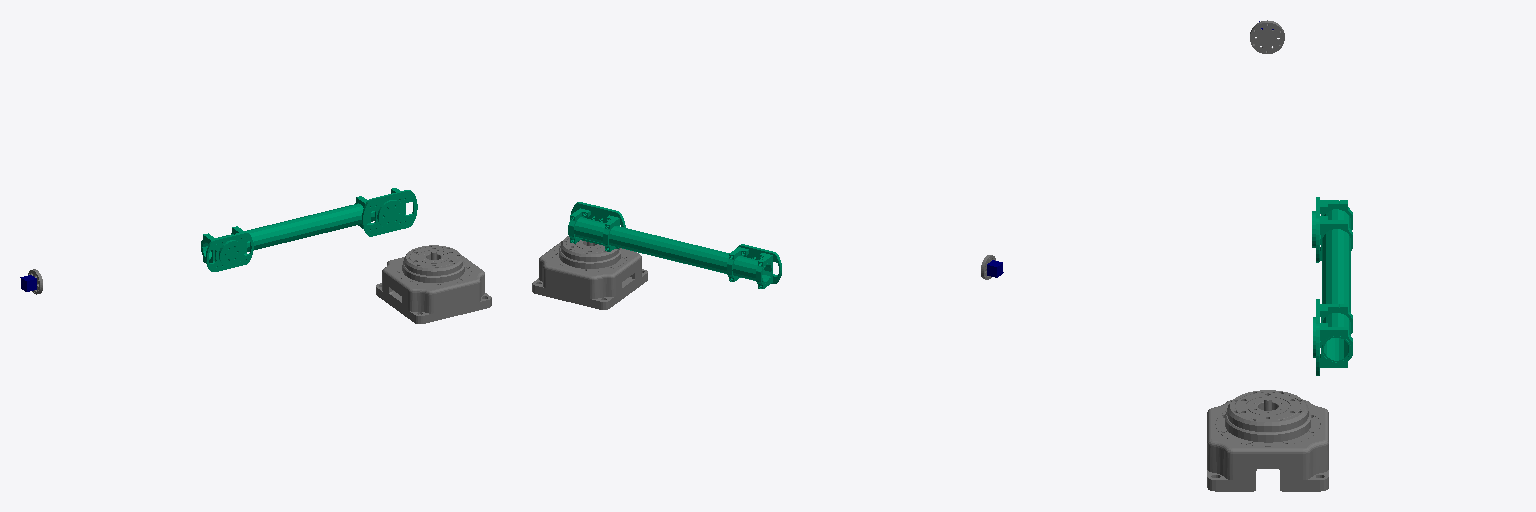
URDF robot description (Lagrange_01_sim):
<?xml version="1.0"?>
<robot name="Lagrange_01_sim">
  <!-- Material definitions copied from common_properities.xacro -->
  <material name="grey">
    <color rgba="0.5 0.5 0.5 1"/>
  </material>
  <material name="blue">
    <color rgba="0 0 0.5 1"/>
  </material>
  <material name="dark_green">
    <color rgba="0 0.4 0 1"/>
  </material>
  <material name="green">
    <color rgba="0 0.6 0 1"/>
  </material>

  <!-- Joints (fixed base, 6-DOF arm, fixed tool/gripper) -->
  <joint name="j1" type="revolute">
    <origin xyz="0 0 0.0888" rpy="0 0 3.1416"/>
    <parent link="base_link"/>
    <child link="shoulder"/>
    <axis xyz="0 0 -1"/>
    <limit lower="-1.57" upper="1.57" effort="100" velocity="1.0"/>
  </joint>
  <joint name="j2" type="revolute">
    <origin xyz="0.05 -0.0535 0.058" rpy="-1.5708 -3.1416 3.1416"/>
    <parent link="shoulder"/>
    <child link="arm1"/>
    <axis xyz="0 0 1"/>
    <limit lower="-0.2" upper="3.1415" effort="100" velocity="1.0"/>
  </joint>
  <joint name="j3" type="revolute">
    <origin xyz="0.307 0 -0.001" rpy="0 0 0"/>
    <parent link="arm1"/>
    <child link="elbow"/>
    <axis xyz="0 0 -1"/>
    <limit lower="-1.57" upper="3.0" effort="100" velocity="1.0"/>
  </joint>
  <joint name="j4" type="revolute">
    <origin xyz="0 0.065 -0.05255" rpy="-1.5708 -1.5708 -1.5708"/>
    <parent link="elbow"/>
    <child link="arm2"/>
    <axis xyz="0 0 1"/>
    <limit lower="-1.57" upper="1.57" effort="100" velocity="1.0"/>
  </joint>
  <joint name="j5" type="revolute">
    <origin xyz="0.0259 0 0.3055" rpy="1.5708 -1.5708 1.5708"/>
    <parent link="arm2"/>
    <child link="wrist"/>
    <axis xyz="0 0 -1"/>
    <limit lower="-1.57" upper="1.57" effort="100" velocity="1.0"/>
  </joint>
  <joint name="j6" type="revolute">
    <origin xyz="0.0986 0 -0.0267" rpy="1.5708 1.536 1.5708"/>
    <parent link="wrist"/>
    <child link="ee"/>
    <axis xyz="0 0 -1"/>
    <limit lower="-1.57" upper="1.57" effort="100" velocity="1.0"/>
  </joint>
  <joint name="hand_tool_joint" type="fixed">
    <parent link="ee"/>
    <child link="tool_link"/>
    <origin xyz="0 0 0.006" rpy="0 0 0"/>
  </joint>

  <!-- Links: geometry copied from Lagrange_01.xacro -->
  <link name="base_link">
    <inertial>
      <origin xyz="4.41011508878764E-05 -2.90756555668681E-05 0.0361387835104102" rpy="0 0 0"/>
      <mass value="0.809840255220577"/>
      <inertia ixx="0.00175354317772318" ixy="-3.3351357639085E-08" ixz="-1.15494031424985E-05" iyy="0.00162670948417624" iyz="-6.61769333761291E-08" izz="0.00306935595115229"/>
    </inertial>
    <visual>
      <origin xyz="0 0 0" rpy="0 0 0"/>
      <geometry>
        <mesh filename="../meshes/base_link.STL"/>
      </geometry>
      <material name="grey"/>
    </visual>
    <collision>
      <origin xyz="0 0 0" rpy="0 0 0"/>
      <geometry>
        <mesh filename="../meshes/base_link.STL"/>
      </geometry>
    </collision>
  </link>

  <link name="shoulder">
    <inertial>
      <origin xyz="0.0289886964053496 -0.0301809705454806 0.0367970577713876" rpy="0 0 0"/>
      <mass value="0.246398251542874"/>
      <inertia ixx="0.000180993620440308" ixy="-3.74858776429711E-06" ixz="-2.296855341785E-05" iyy="0.000329690310718771" iyz="-1.9870058151598E-07" izz="0.000223732490676728"/>
    </inertial>
    <visual>
      <origin xyz="0 0 0" rpy="0 0 0"/>
      <geometry>
        <mesh filename="../meshes/shoulder.STL"/>
      </geometry>
    </visual>
    <collision>
      <origin xyz="0 0 0" rpy="0 0 0"/>
      <geometry>
        <mesh filename="../meshes/shoulder.STL"/>
      </geometry>
    </collision>
  </link>

  <link name="arm1">
    <inertial>
      <origin xyz="0.146112992897114 6.40865138734625E-12 0.0194000233256321" rpy="0 0 0"/>
      <mass value="0.172300182895447"/>
      <inertia ixx="5.70121551241632E-05" ixy="-2.04753504900016E-08" ixz="2.48481066314224E-10" iyy="0.000923693984989881" iyz="-1.57920077297098E-14" izz="0.000948994175431864"/>
    </inertial>
    <visual>
      <origin xyz="0 0 0" rpy="0 0 0"/>
      <geometry>
        <mesh filename="../meshes/arm1.STL"/>
      </geometry>
    </visual>
    <collision>
      <origin xyz="0 0 0" rpy="0 0 0"/>
      <geometry>
        <mesh filename="../meshes/arm1.STL"/>
      </geometry>
    </collision>
  </link>

  <link name="elbow">
    <inertial>
      <origin xyz="0.0361747964819732 0.0408307812875339 -0.0272932242166123" rpy="0 0 0"/>
      <mass value="0.284448265743689"/>
      <inertia ixx="0.000222232973321951" ixy="-3.88755261394376E-05" ixz="2.48198628008984E-07" iyy="0.000153500497691171" iyz="-1.706672036193E-06" izz="0.000297168544530739"/>
    </inertial>
    <visual>
      <origin xyz="0 0 0" rpy="0 0 0"/>
      <geometry>
        <mesh filename="../meshes/elbow.STL"/>
      </geometry>
    </visual>
    <collision>
      <origin xyz="0 0 0" rpy="0 0 0"/>
      <geometry>
        <mesh filename="../meshes/elbow.STL"/>
      </geometry>
    </collision>
  </link>

  <link name="arm2">
    <inertial>
      <origin xyz="-0.00595945402412162 -5.32739356225442E-05 0.252334366906384" rpy="0 0 0"/>
      <mass value="0.107861938906089"/>
      <inertia ixx="0.000162118569669926" ixy="-6.57666219522903E-08" ixz="-7.29599288696642E-08" iyy="0.000146539139756443" iyz="-1.80802905320553E-07" izz="2.97799591500001E-05"/>
    </inertial>
    <visual>
      <origin xyz="0 0 0" rpy="0 0 0"/>
      <geometry>
        <mesh filename="../meshes/arm2.STL"/>
      </geometry>
    </visual>
    <collision>
      <origin xyz="0 0 0" rpy="0 0 0"/>
      <geometry>
        <mesh filename="../meshes/arm2.STL"/>
      </geometry>
    </collision>
  </link>

  <link name="wrist">
    <inertial>
      <origin xyz="0.044453379437331 7.44185616712301E-05 -0.0146834741303253" rpy="0 0 0"/>
      <mass value="0.085343913975739"/>
      <inertia ixx="3.95644042665526E-05" ixy="-9.0338673212097E-07" ixz="-1.34778006725232E-09" iyy="3.00242071647503E-05" iyz="6.54951185528677E-07" izz="3.76111917704214E-05"/>
    </inertial>
    <visual>
      <origin xyz="0 0 0" rpy="0 0 0"/>
      <geometry>
        <mesh filename="../meshes/wrist.STL"/>
      </geometry>
    </visual>
    <collision>
      <origin xyz="0 0 0" rpy="0 0 0"/>
      <geometry>
        <mesh filename="../meshes/wrist.STL"/>
      </geometry>
    </collision>
  </link>

  <link name="ee">
    <inertial>
      <origin xyz="5.55111512312578E-17 0 0.00293833383379588" rpy="0 0 0"/>
      <mass value="0.0073680722836419"/>
      <inertia ixx="8.38696312093355E-07" ixy="-4.0697286137609E-22" ixz="1.49719690872098E-22" iyy="8.38696312093354E-07" iyz="1.58818677610181E-22" izz="1.63251325062631E-06"/>
    </inertial>
    <visual>
      <origin xyz="0 0 0" rpy="0 0 0"/>
      <geometry>
        <mesh filename="../meshes/ee.STL"/>
      </geometry>
      <material name="grey"/>
    </visual>
    <collision>
      <origin xyz="0 0 0" rpy="0 0 0"/>
      <geometry>
        <mesh filename="../meshes/ee.STL"/>
      </geometry>
    </collision>
  </link>

  <link name="tool_link">
    <visual>
      <origin xyz="0 0 0.01" rpy="0 0 0"/>
      <geometry>
        <box size="0.02 0.02 0.02"/>
      </geometry>
      <material name="blue"/>
    </visual>
    <collision>
      <origin xyz="0 0 0.01" rpy="0 0 0"/>
      <geometry>
        <box size="0.04 0.04 0.02"/>
      </geometry>
      <material name="blue"/>
    </collision>
  </link>
</robot>

--- Facts derived from the render (not from the file) ---
The picture shows the robot from 3 angles, left to right: view 1: azimuth 30°, elevation 25°; view 2: azimuth 150°, elevation 25°; view 3: azimuth 270°, elevation 25°; orthographic projection.
Model Lagrange_01_sim with 8 links and 7 joints (6 revolute, 1 fixed), rooted at base_link, posed all joints at 0.
Links seen in each view (by area): view 1: base_link, arm1; view 2: arm1, base_link; view 3: base_link, arm1, ee.
Boxes of the visible links, bbox=[...] form: base_link: bbox=[376, 245, 491, 323]; arm1: bbox=[201, 188, 417, 271]; arm1: bbox=[568, 202, 781, 288]; base_link: bbox=[532, 236, 647, 309]; base_link: bbox=[1207, 390, 1328, 491]; arm1: bbox=[1312, 197, 1352, 375]; ee: bbox=[1250, 20, 1284, 53].
Bounding box of the posed robot: 0.8601 × 0.1747 × 0.2328 m (x, y, z).
3 mesh visuals loaded from 7 distinct referenced files (3 binary STL); not drawn: 4 (reference not matched to a file when rendering).
